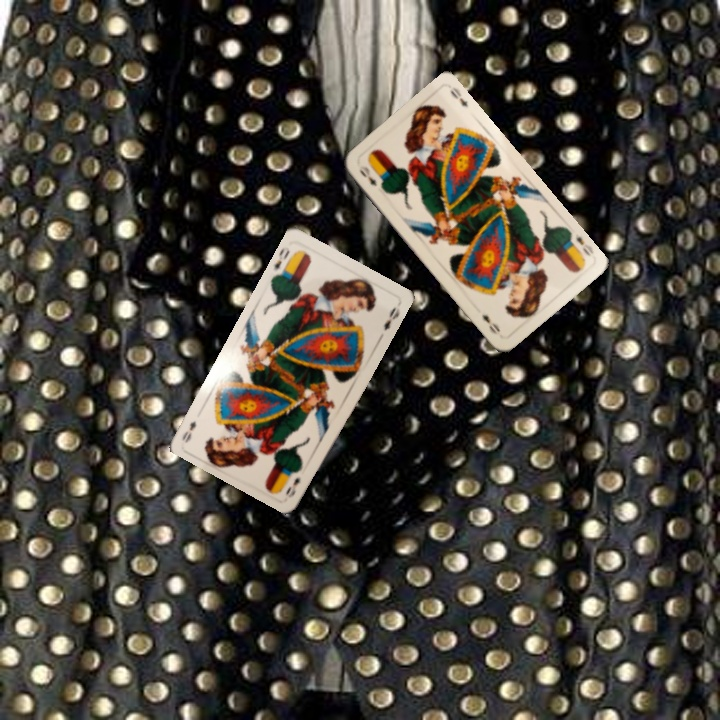EO: (269, 245, 295, 278), (571, 229, 596, 259), (355, 161, 379, 189), (282, 473, 303, 500)
